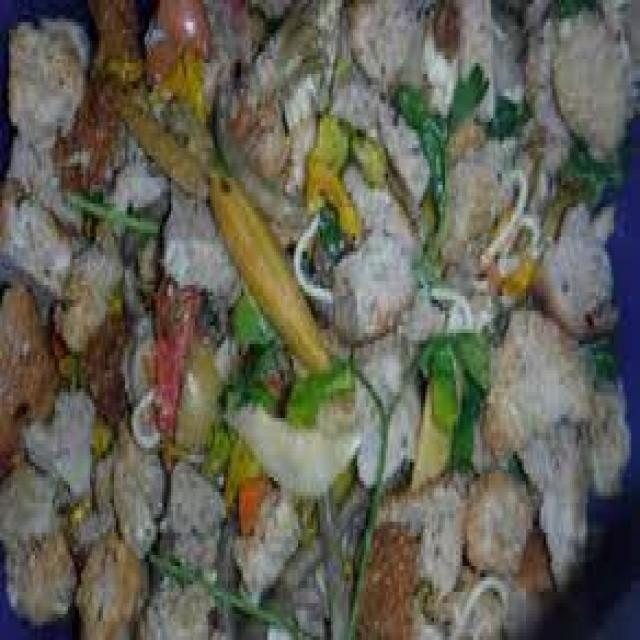food_waste: (49, 94, 571, 534)
